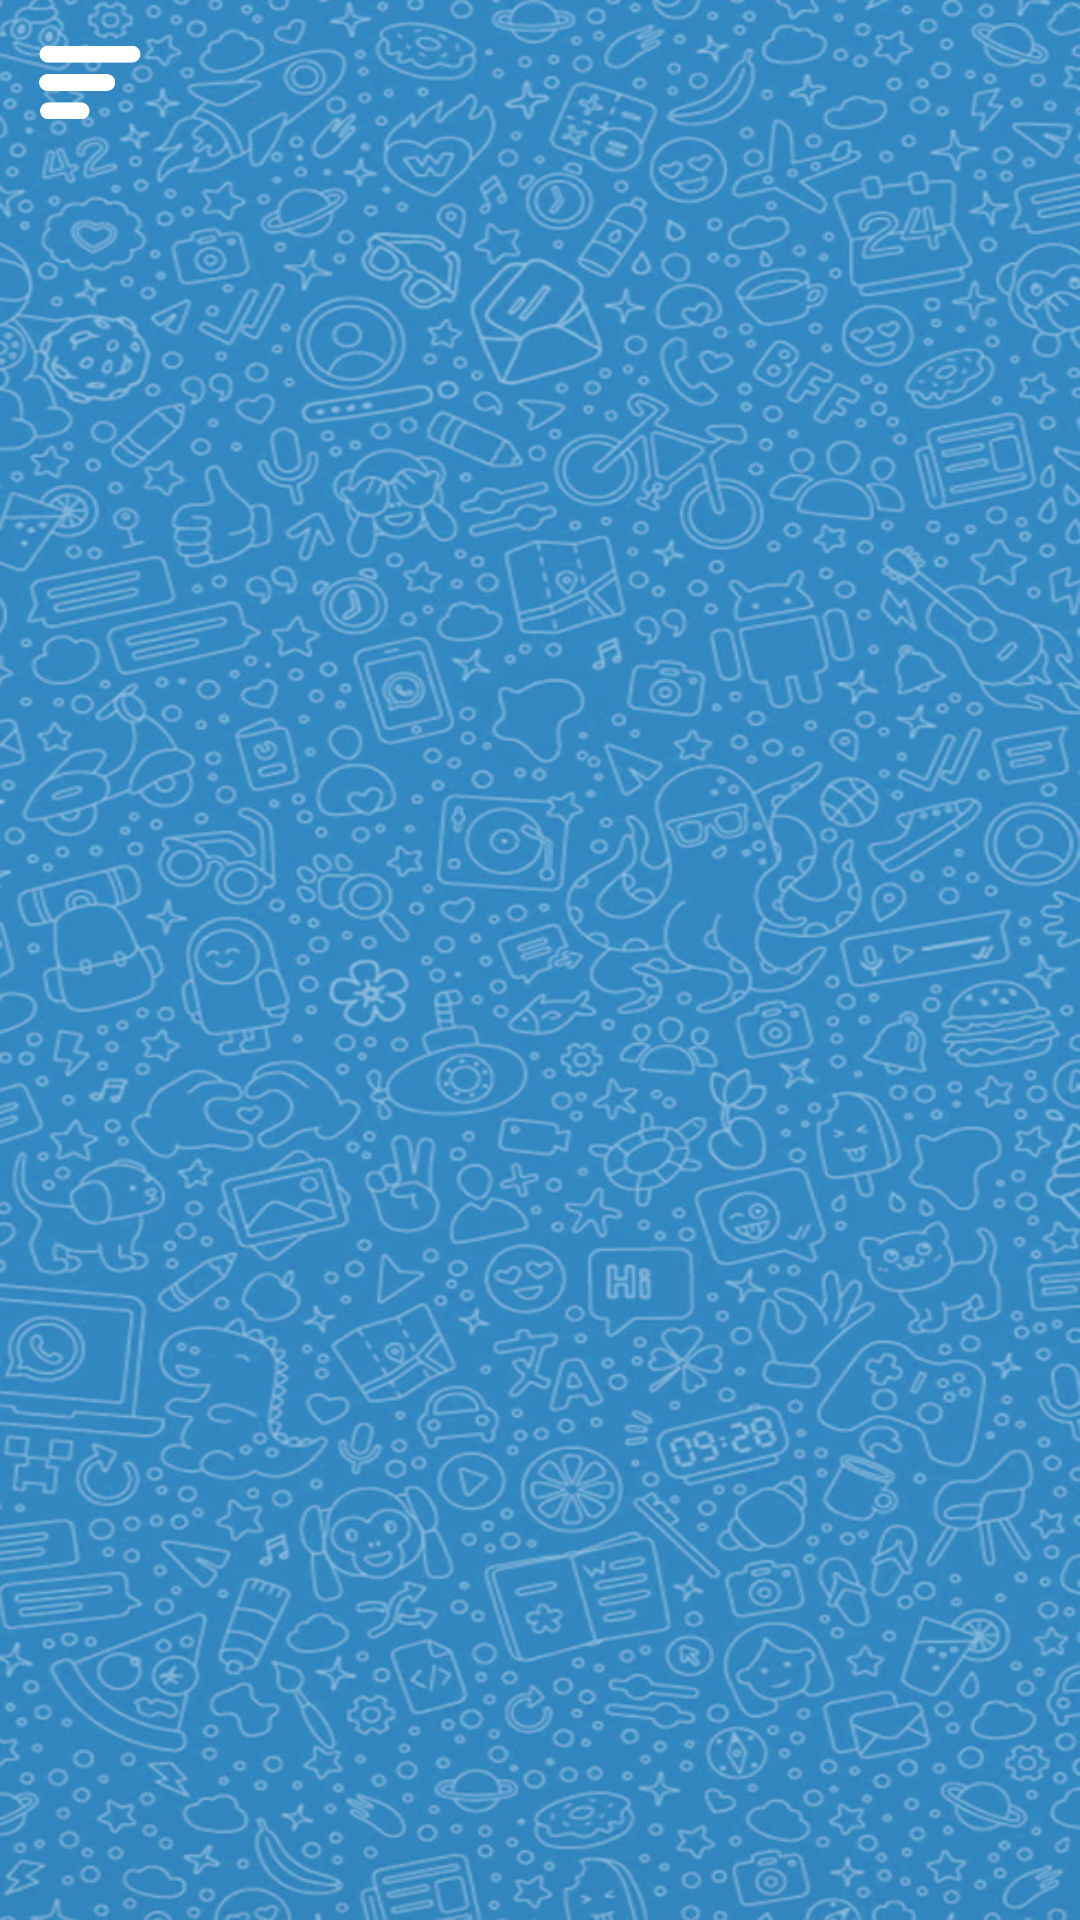

Where icons sit on this 1080px x 1920px app screen, as (left=x1, top=y1, right=x2, bottom=y2):
drawer: (left=30, top=31, right=150, bottom=135)
